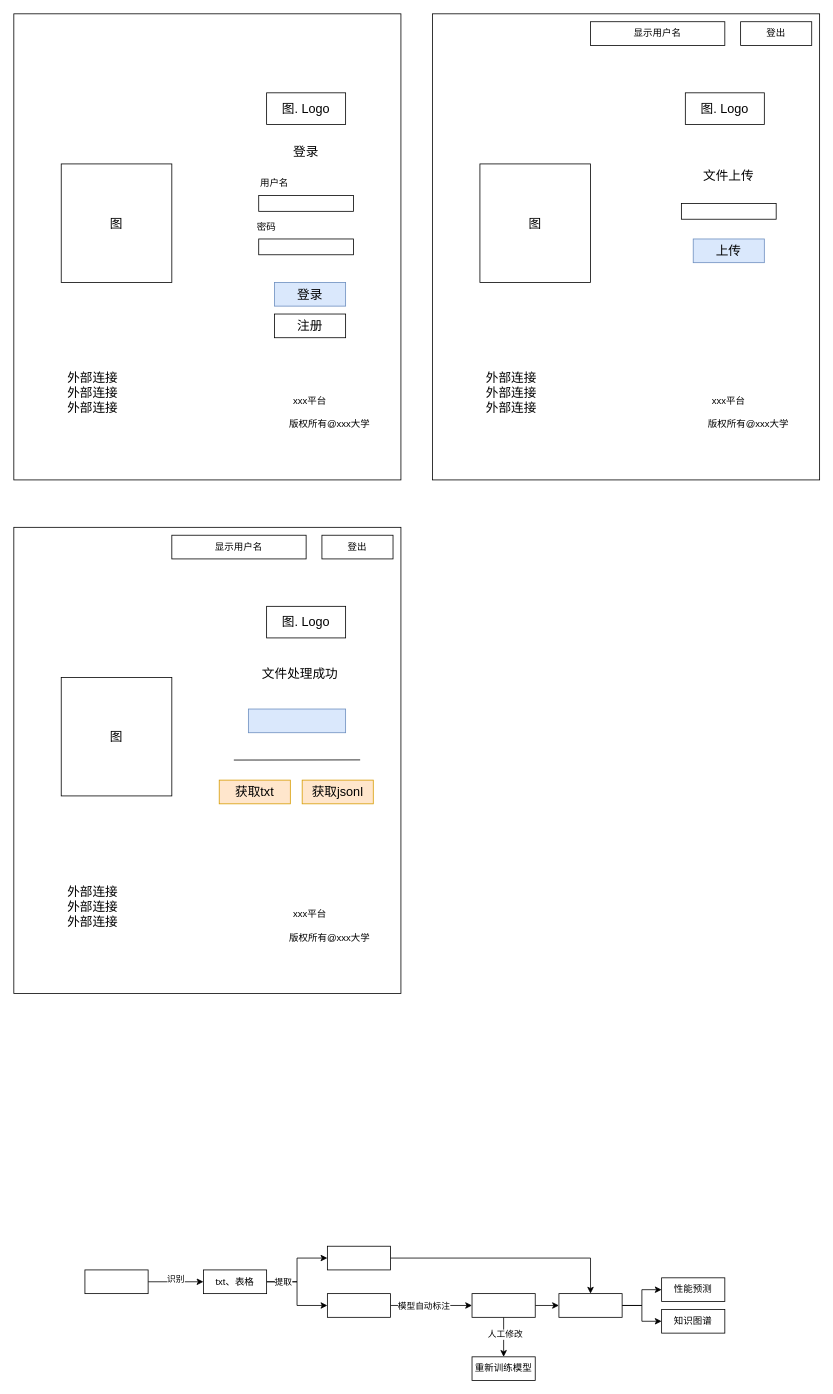
Some shapes in this 833 by 1394 pixel diagram are drawn without their labels. The shapes that lost their labels are listed below. From the top down, each one's box as (x1, y1, x2, y2) in pixels, then its label:
(248, 708, 346, 733): 显示标注结果
(327, 1245, 391, 1270): 表格数据
(84, 1269, 148, 1294): 论文、PDF
(327, 1293, 391, 1317): txt数据
(471, 1293, 535, 1317): 可视化
(558, 1293, 622, 1317): 存入数据库
